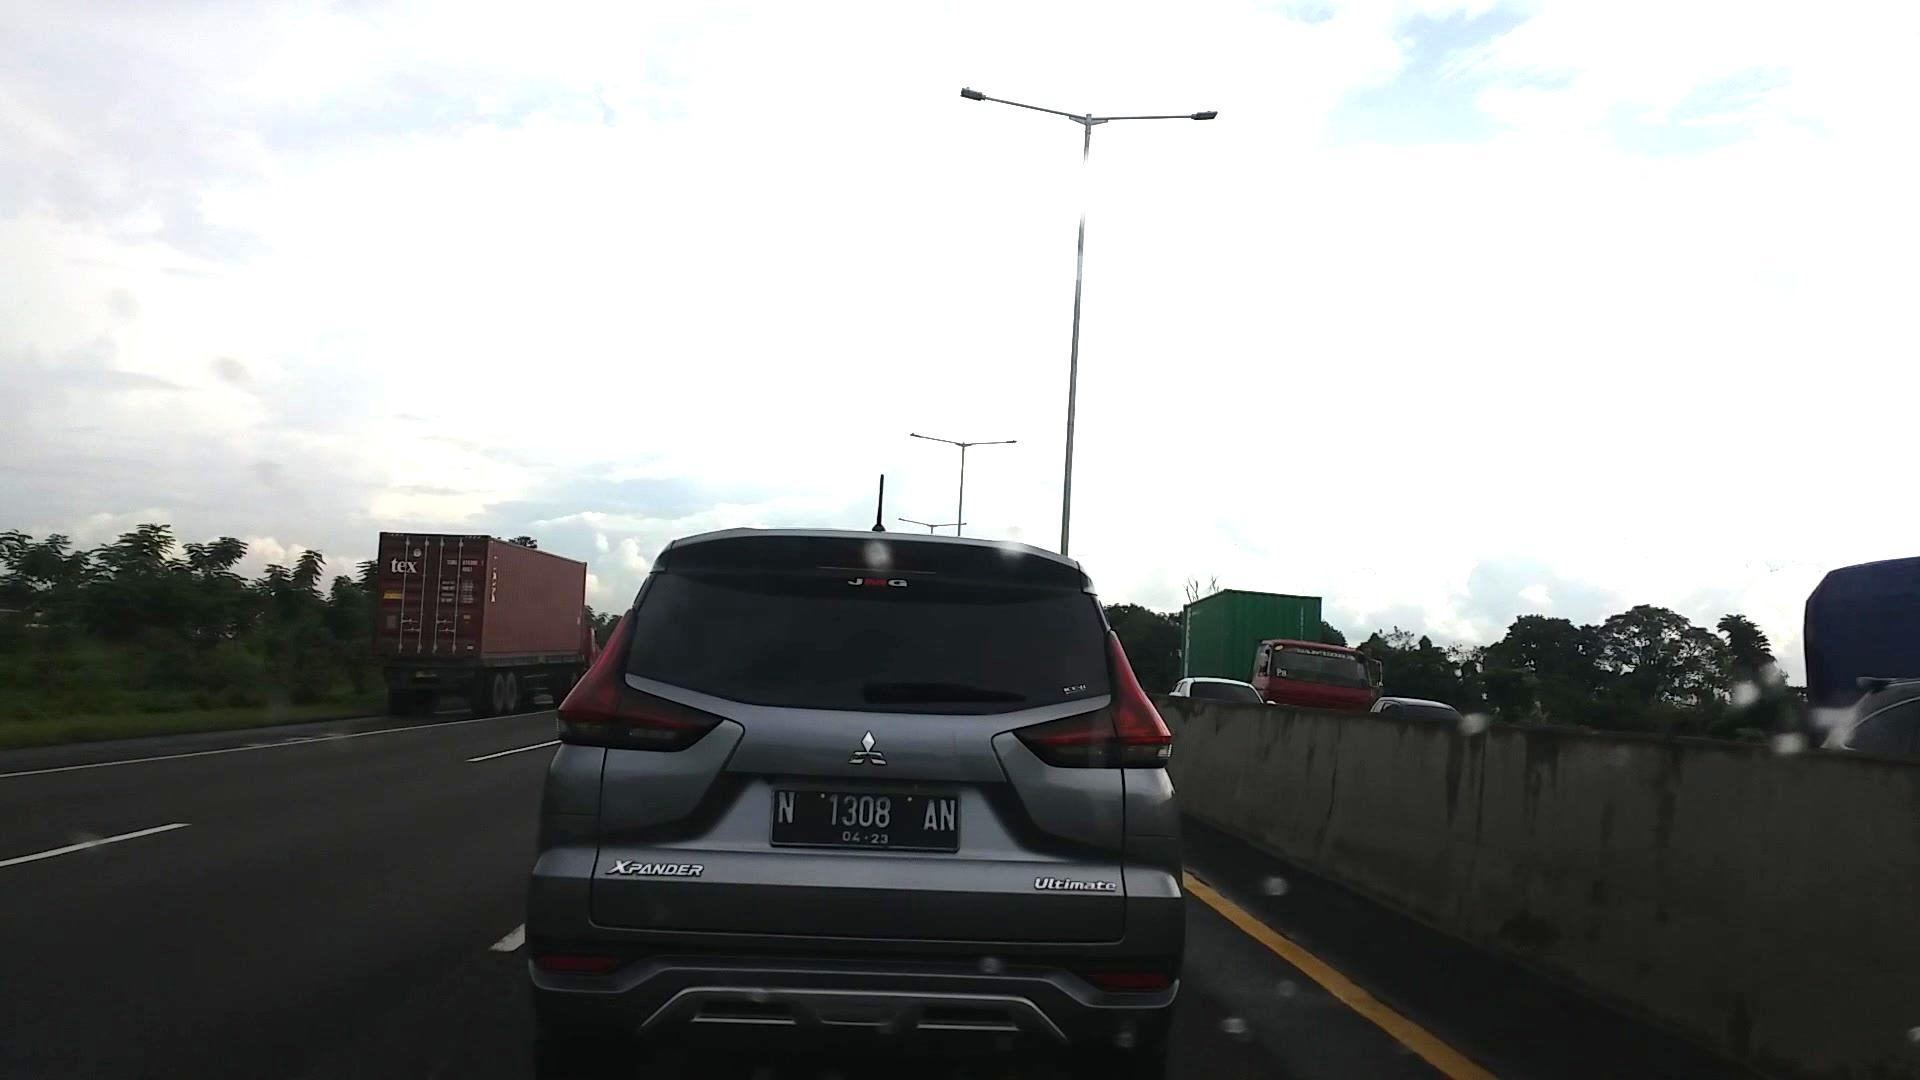plate_positive: (770, 787, 960, 853)
